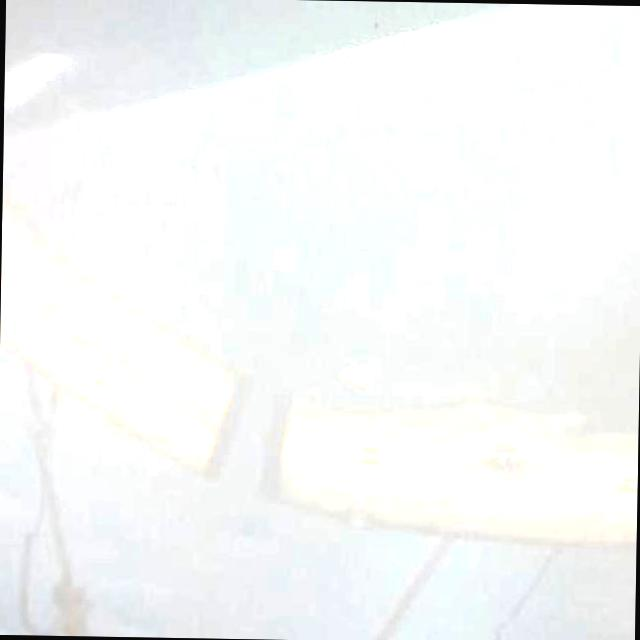dent: (468, 429, 540, 484), (351, 438, 386, 471), (614, 474, 637, 498), (345, 368, 370, 388), (93, 374, 113, 393)
